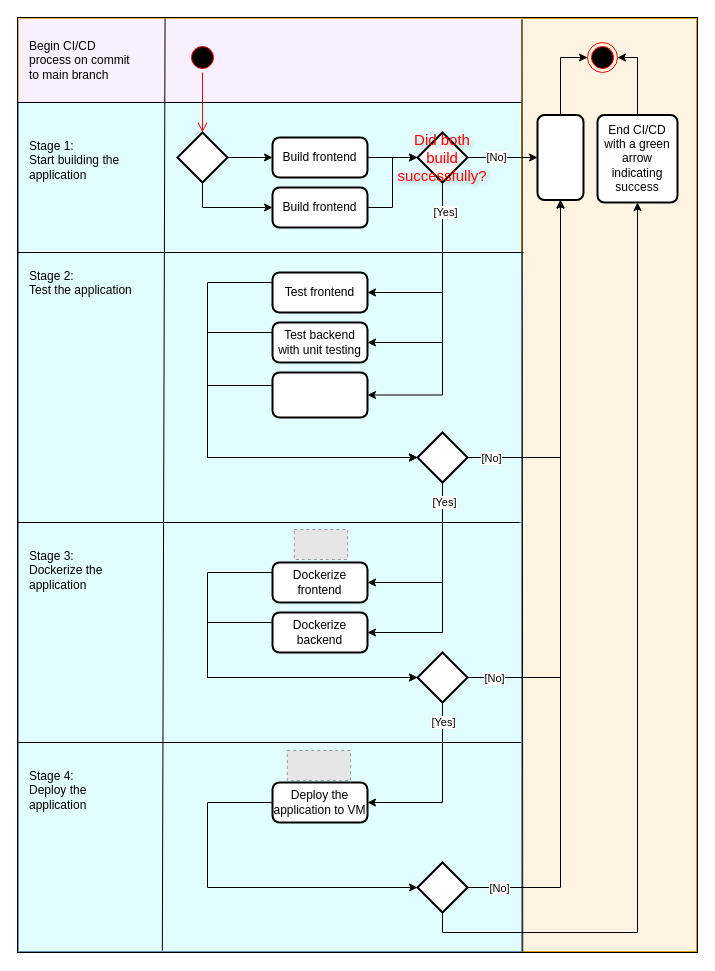
Some shapes in this 715 by 971 pixel diagram are drawn without their labels. Grey dashed boxes stand in for pictures. Each missing label, with the centre of its shape:
Did all tests pass?: the point at 442,457
Did deployment succeed?: the point at 442,887
Did dockerization succeed: the point at 442,677
End CI/CD with error: the point at 560,157
Test backend with integration testing: the point at 319,394
